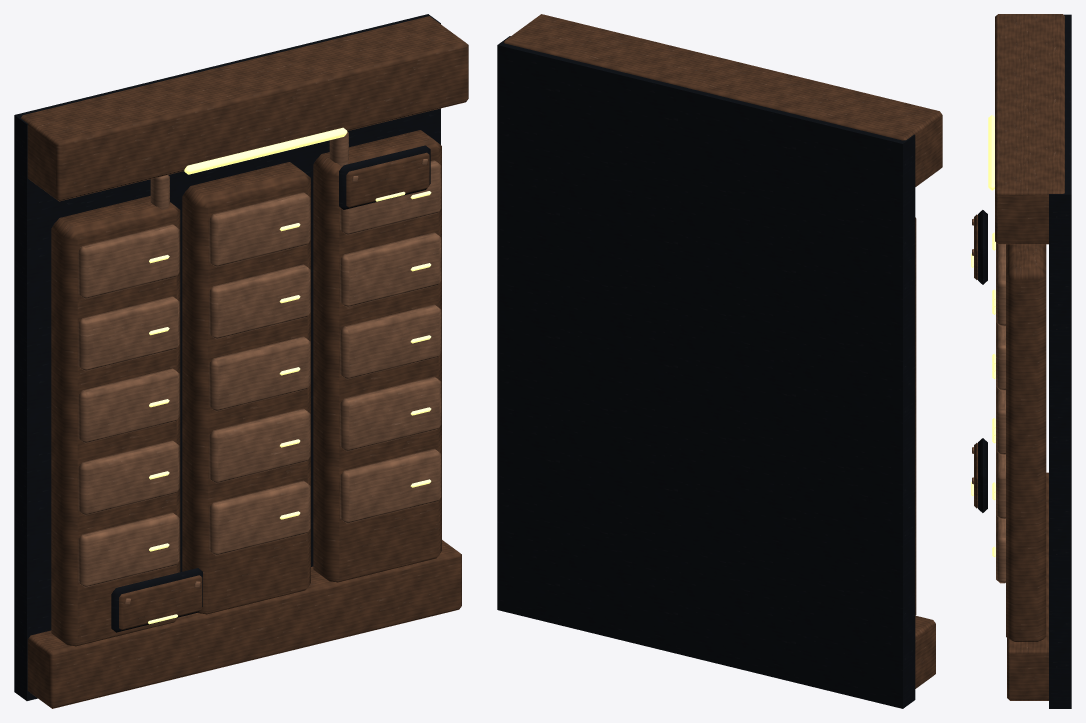
File: buried_archives_room.glb
3 views of the same model, side by side, from view 1: azimuth 30°, elevation 25°; view 2: azimuth 150°, elevation 25°; view 3: azimuth 270°, elevation 25° (orthographic). The views are drawn at different scales.
Parts seen in each view (by area): view 1: buried_archives_room - buried_archives panels, buried_archives_room - buried_archives trim, buried_archives_room - Recessed iron, buried_archives_room - buried_archives accents; view 2: buried_archives_room - Recessed iron, buried_archives_room - buried_archives panels; view 3: buried_archives_room - buried_archives panels, buried_archives_room - Recessed iron, buried_archives_room - buried_archives trim, buried_archives_room - buried_archives accents.
Boxes of the visible parts, x1,y1,x2,y2 form: buried_archives_room - buried_archives panels: [20, 16, 468, 708]; buried_archives_room - buried_archives trim: [78, 131, 441, 604]; buried_archives_room - Recessed iron: [14, 14, 440, 700]; buried_archives_room - buried_archives accents: [148, 127, 431, 624]; buried_archives_room - Recessed iron: [497, 36, 915, 708]; buried_archives_room - buried_archives panels: [504, 14, 942, 688]; buried_archives_room - buried_archives panels: [974, 14, 1064, 700]; buried_archives_room - Recessed iron: [978, 14, 1071, 708]; buried_archives_room - buried_archives trim: [972, 218, 1005, 583]; buried_archives_room - buried_archives accents: [971, 115, 995, 557].
Bounding box in the file's own units: 6.01 × 8.03 × 1.41.
4 materials, 3 textured.
